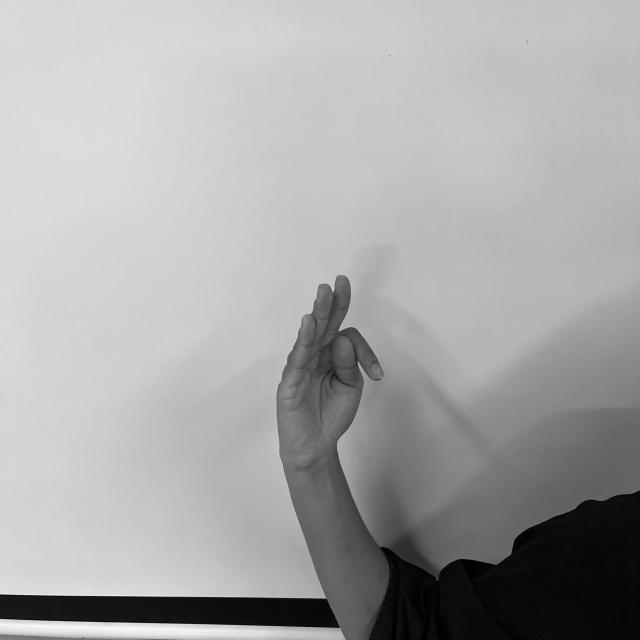Letra T: (270, 269, 390, 473)
